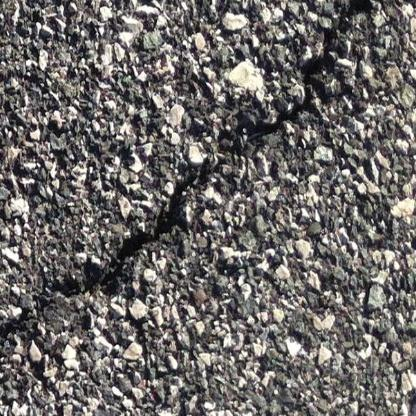Cracks: (0, 172, 203, 342), (231, 0, 394, 143)
